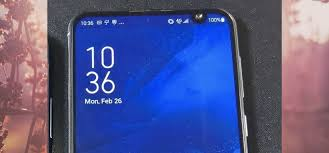asus: (63, 6, 249, 153)
